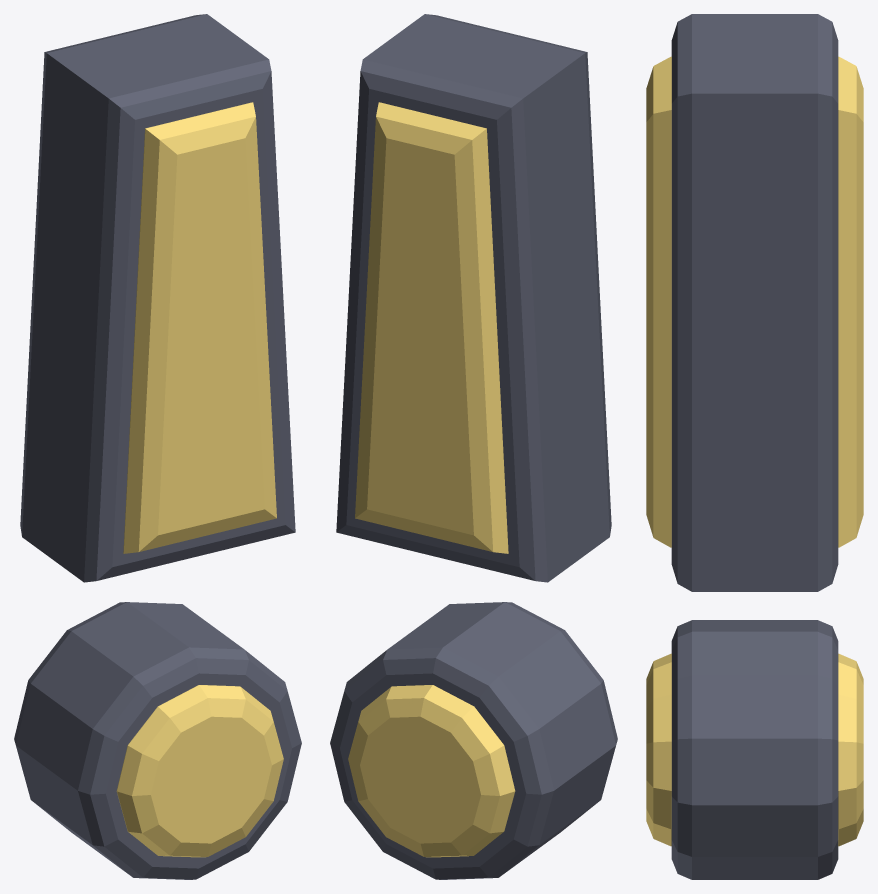
The model's file is game-ui-icon-library-quest-marker-exclamation-53423229__19038.glb.
3 renders of one model, left to right at view 1: azimuth 30°, elevation 25°; view 2: azimuth 150°, elevation 25°; view 3: azimuth 270°, elevation 25°, orthographic.
Parts seen in each view (by area): view 1: quest-marker-exclamation; view 2: quest-marker-exclamation; view 3: quest-marker-exclamation.
Boxes of the visible parts, x1,y1,x2,y2 form: quest-marker-exclamation: (14,14,301,879); quest-marker-exclamation: (330,14,617,879); quest-marker-exclamation: (646,14,863,879).
Size of the model in its own units: 0.2729 by 0.94 by 0.2275.
